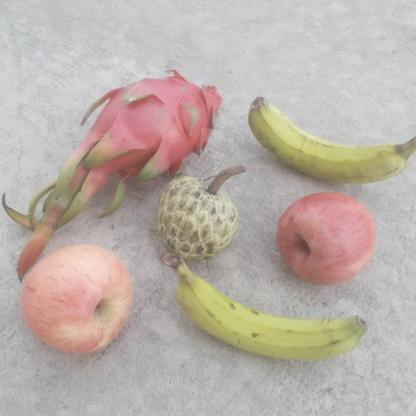annona: (156, 175, 239, 263)
apple: (16, 245, 132, 354), (277, 189, 379, 283)
banana: (178, 265, 366, 360), (249, 92, 407, 193)
pitaya: (74, 67, 218, 163)
